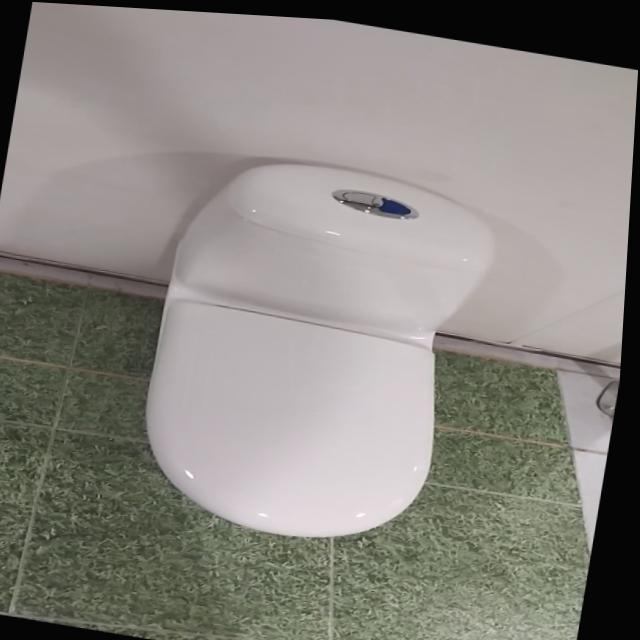toilet: (130, 137, 510, 558)
